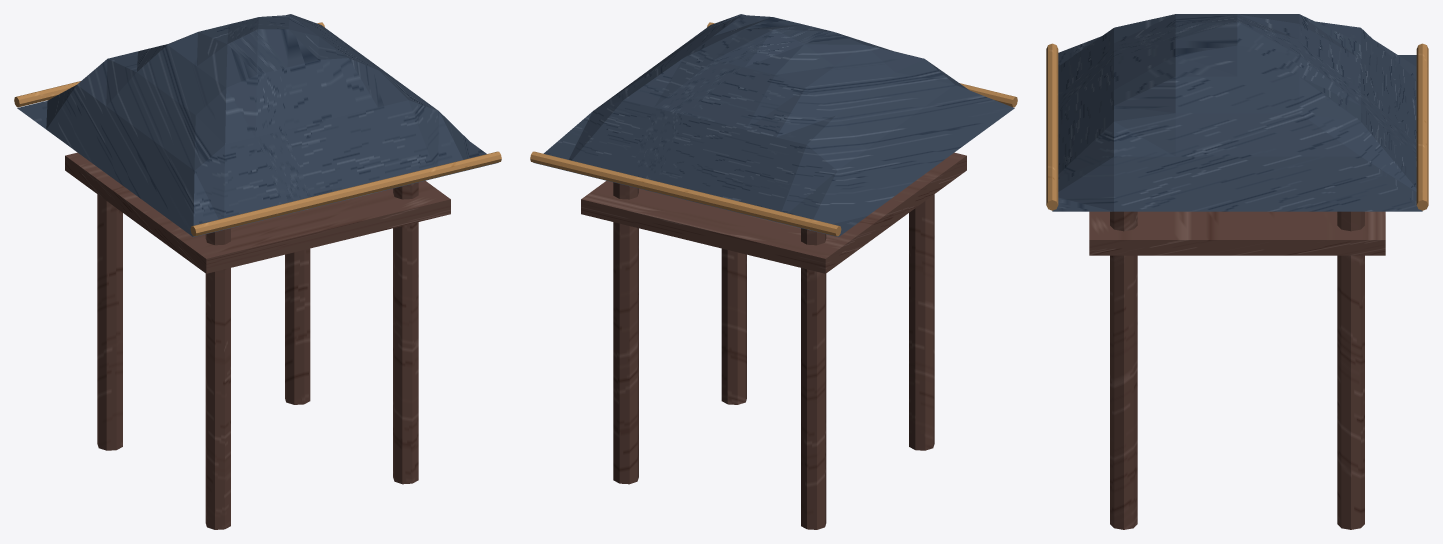
The model's file is shogun_guard_watchpost.obj.
The picture shows the model from 3 angles, left to right: view 1: azimuth 30°, elevation 25°; view 2: azimuth 150°, elevation 25°; view 3: azimuth 270°, elevation 25°; orthographic projection. The views are drawn at different scales.
Visible parts, largest first — view 1: geometry_5, geometry_4, geometry_3, geometry_1, geometry_0, geometry_2, geometry_7, geometry_6; view 2: geometry_5, geometry_4, geometry_2, geometry_0, geometry_1, geometry_3, geometry_6; view 3: geometry_5, geometry_4, geometry_2, geometry_3, geometry_6, geometry_7.
Boxes of the visible parts, x1,y1,x2,y2 form: geometry_5: (17, 14, 498, 237); geometry_4: (65, 152, 450, 273); geometry_3: (393, 182, 418, 484); geometry_1: (205, 228, 230, 529); geometry_0: (97, 194, 122, 450); geometry_2: (285, 248, 310, 404); geometry_7: (190, 151, 501, 236); geometry_6: (14, 22, 324, 107); geometry_5: (533, 14, 1014, 237); geometry_4: (581, 152, 966, 273); geometry_2: (613, 182, 638, 484); geometry_0: (801, 228, 826, 529); geometry_1: (909, 194, 934, 450); geometry_3: (721, 248, 746, 404); geometry_6: (530, 151, 841, 236); geometry_5: (1052, 14, 1422, 211); geometry_4: (1089, 211, 1385, 255); geometry_2: (1337, 211, 1364, 529); geometry_3: (1110, 211, 1137, 529); geometry_6: (1416, 43, 1428, 210); geometry_7: (1046, 43, 1058, 210).
Bounding box in the file's own units: 7.5 × 10.15 × 7.74.
3 materials, 3 textured.
